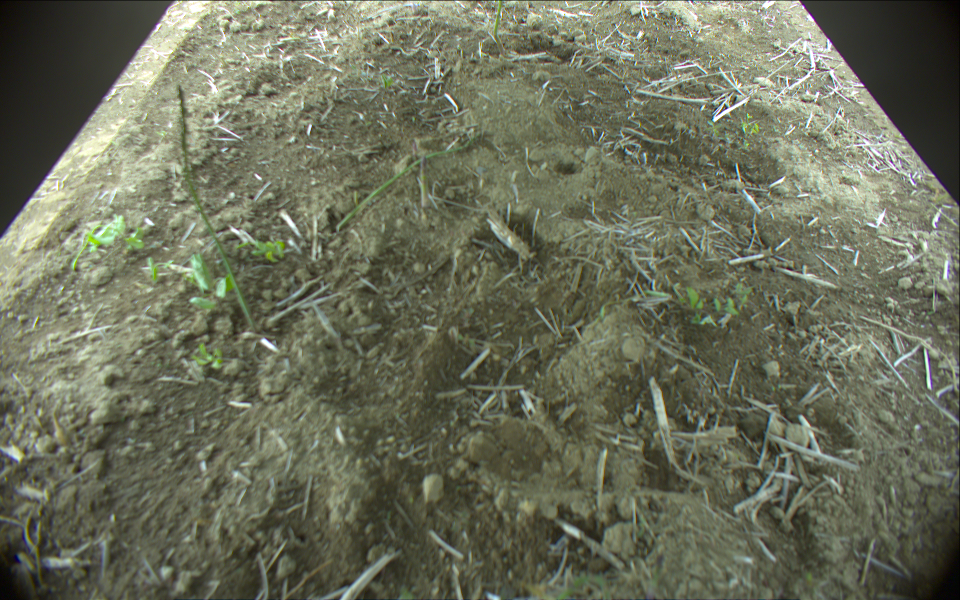aspa: (176, 82, 260, 335), (337, 145, 477, 233), (491, 1, 508, 56)
